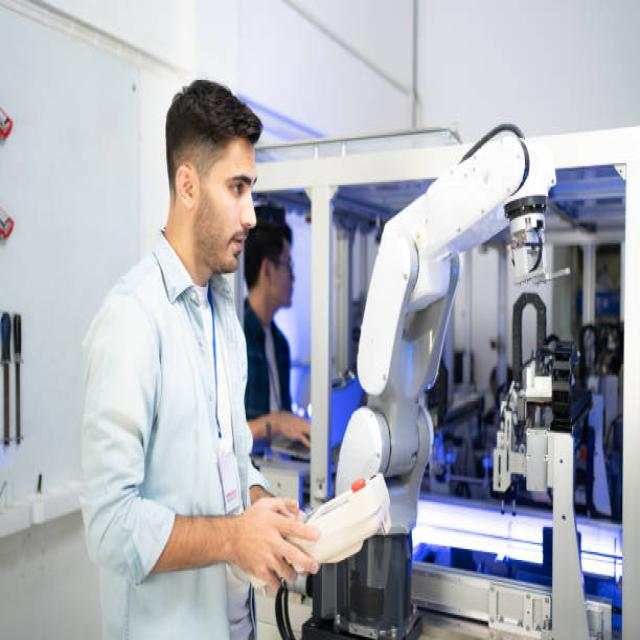Robotic-arm: (288, 119, 570, 570)
